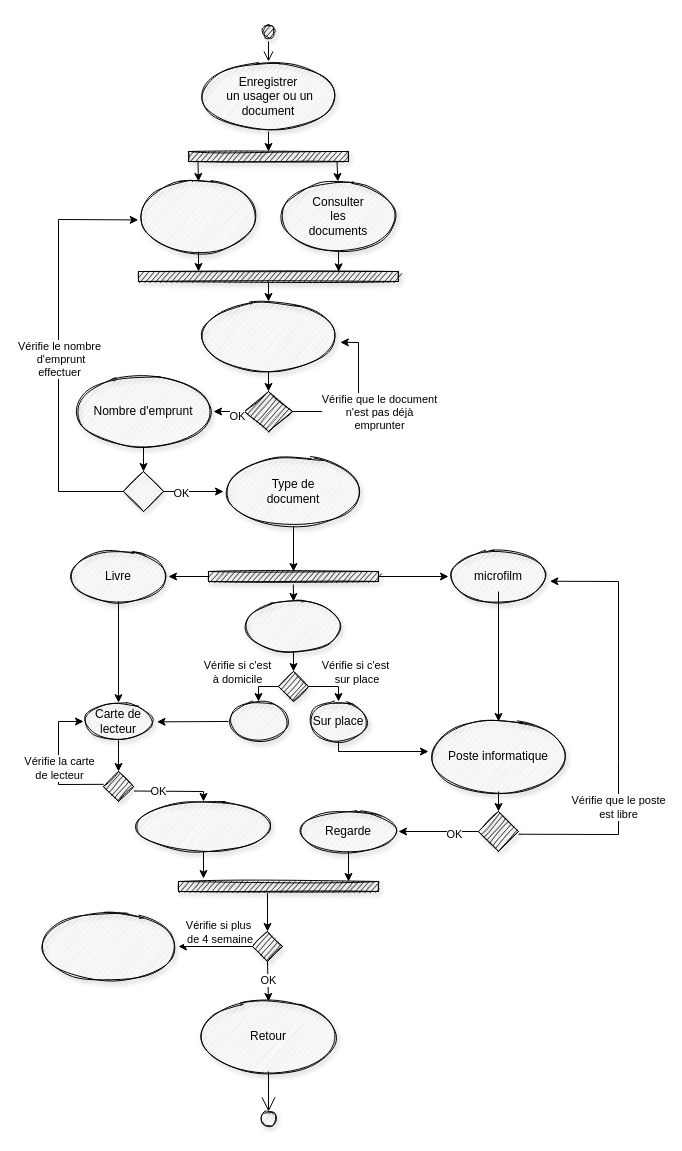
This 682x1151 diagram has some shape labels left out. The centre of each missing label's shape, as x and y in pixels:
A domicile: the point at 259,722
cd-rom: the point at 294,627
Consulter la situation des usagers: the point at 199,217
Emprunt effectuer: the point at 204,827
Enregistrer un emprunt: the point at 269,337
Lettre de relance: the point at 109,947
